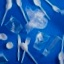plastic: (27, 9, 48, 31)
